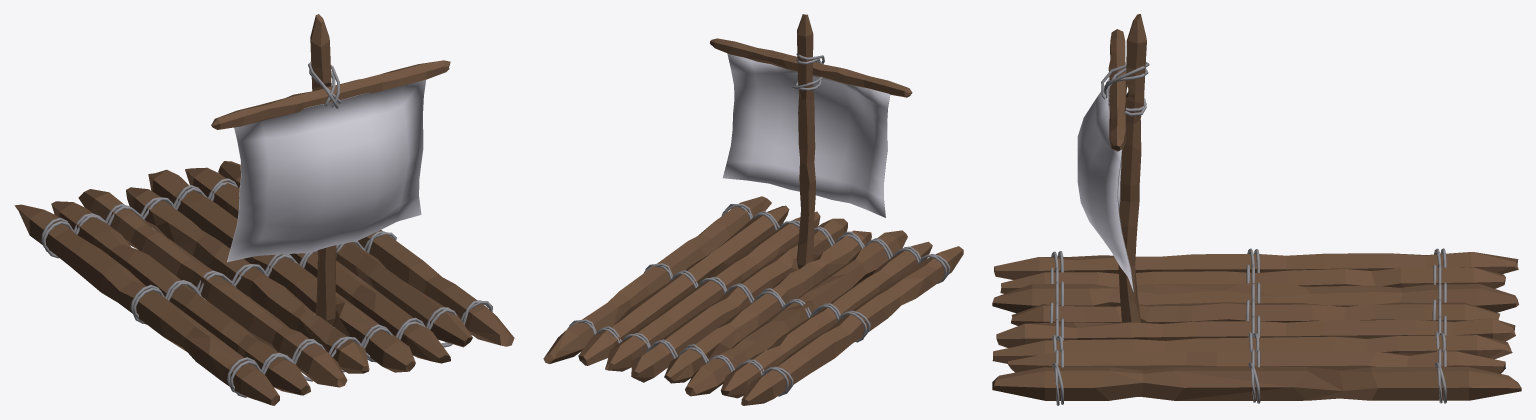
The model's file is Raft_with_sails_ready.fbx.
3 renders of one model, left to right at view 1: azimuth 30°, elevation 25°; view 2: azimuth 150°, elevation 25°; view 3: azimuth 270°, elevation 25°, orthographic. The views are drawn at different scales.
Visible parts, largest first — view 1: Raft; view 2: Raft; view 3: Raft.
Part boxes in pixels (x1,y1,x2,y2): Raft: (14, 14, 514, 405); Raft: (543, 14, 963, 405); Raft: (992, 14, 1521, 405).
Bounding box in the file's own units: 197 × 229 × 330.
